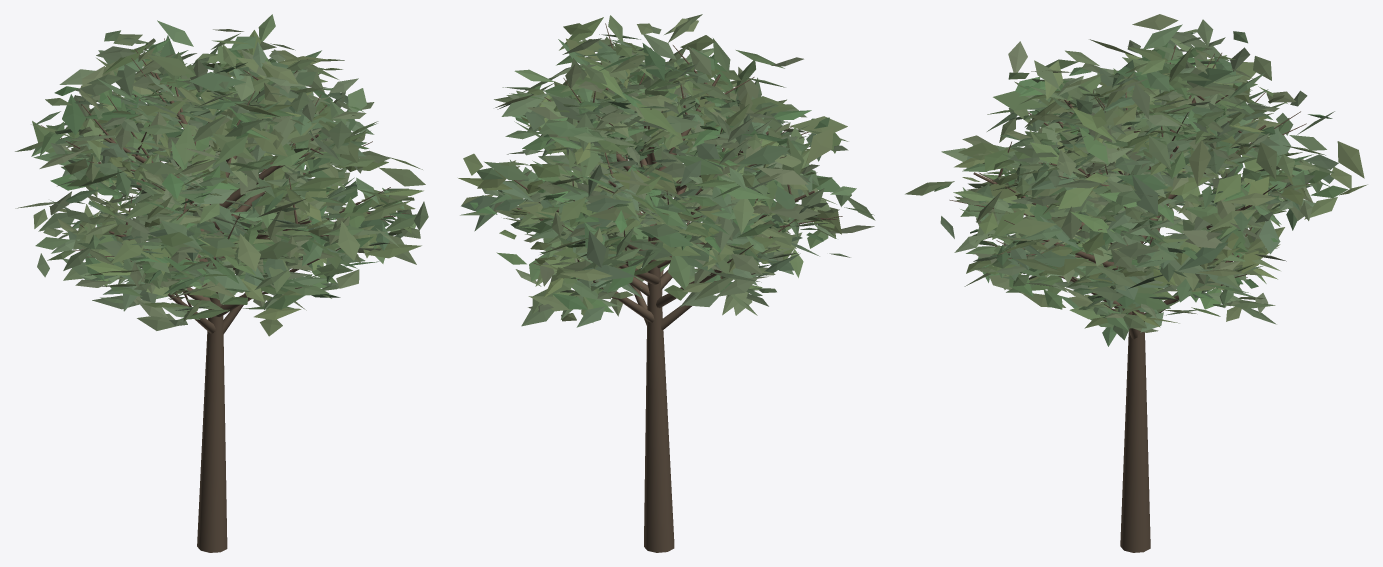
The model's file is Tree3.glb.
3 renders of one model, left to right at view 1: azimuth 30°, elevation 25°; view 2: azimuth 150°, elevation 25°; view 3: azimuth 270°, elevation 25°, orthographic.
Bounding box in the file's own units: 2.92 × 3.87 × 3.26.
